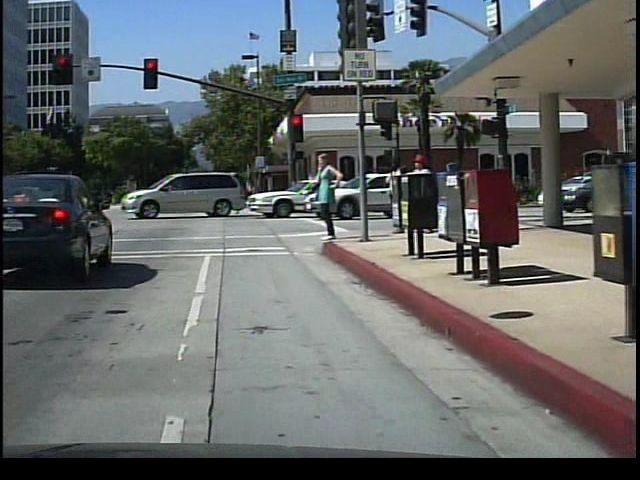person: (308, 147, 341, 245), (405, 147, 437, 237), (378, 149, 404, 233)
